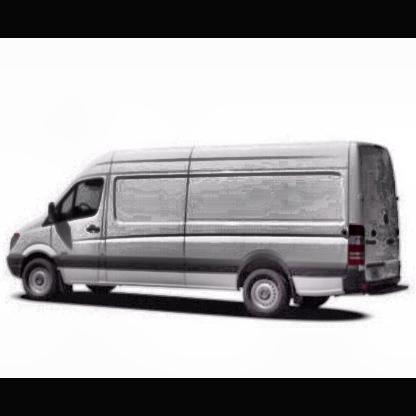Mercedes-Benz Sprinter Van 2012: (10, 141, 409, 315)
